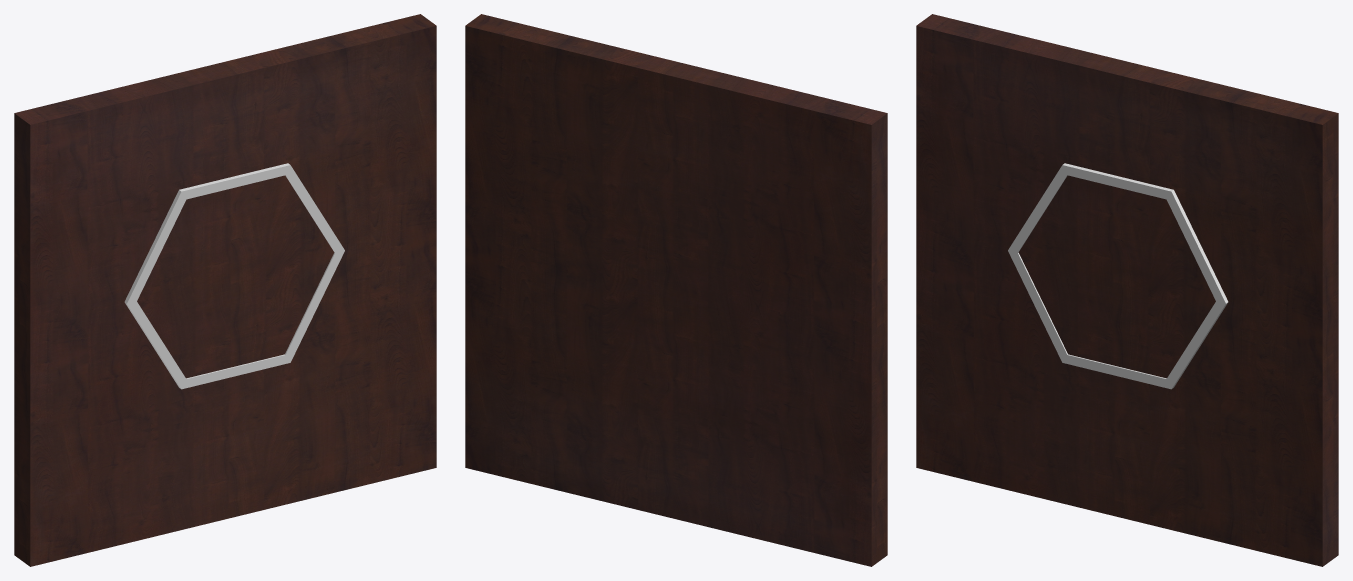
Rendered from EvilBoxEndPart.FBX.
3 renders of one model, left to right at view 1: azimuth 30°, elevation 25°; view 2: azimuth 150°, elevation 25°; view 3: azimuth 330°, elevation 25°, orthographic.
Parts seen in each view (by area): view 1: EndBox, NGon004, CentrePiece001, CentrePiece003, CentrePiece002, CentrePiece004, CentrePiece, CentrePiece005; view 2: EndBox; view 3: EndBox, NGon004, CentrePiece005, CentrePiece003, CentrePiece004, CentrePiece002, CentrePiece, CentrePiece001.
Part boxes in pixels (x1,y1,x2,y2): EndBox: (14,14,436,566); NGon004: (124,163,344,389); CentrePiece001: (235,175,334,276); CentrePiece003: (186,277,284,378); CentrePiece002: (235,252,333,353); CentrePiece004: (137,277,234,377); CentrePiece: (186,175,283,276); CentrePiece005: (137,200,234,300); EndBox: (465,14,887,566); EndBox: (916,14,1338,566); NGon004: (1008,163,1228,389); CentrePiece005: (1018,175,1117,276); CentrePiece003: (1068,277,1166,378); CentrePiece004: (1019,252,1117,353); CentrePiece002: (1118,277,1215,377); CentrePiece: (1069,175,1166,276); CentrePiece001: (1118,200,1215,300).
Bounding box in the file's own units: 0.4693 × 0.4877 × 0.0373.
2 materials, 1 textured.
